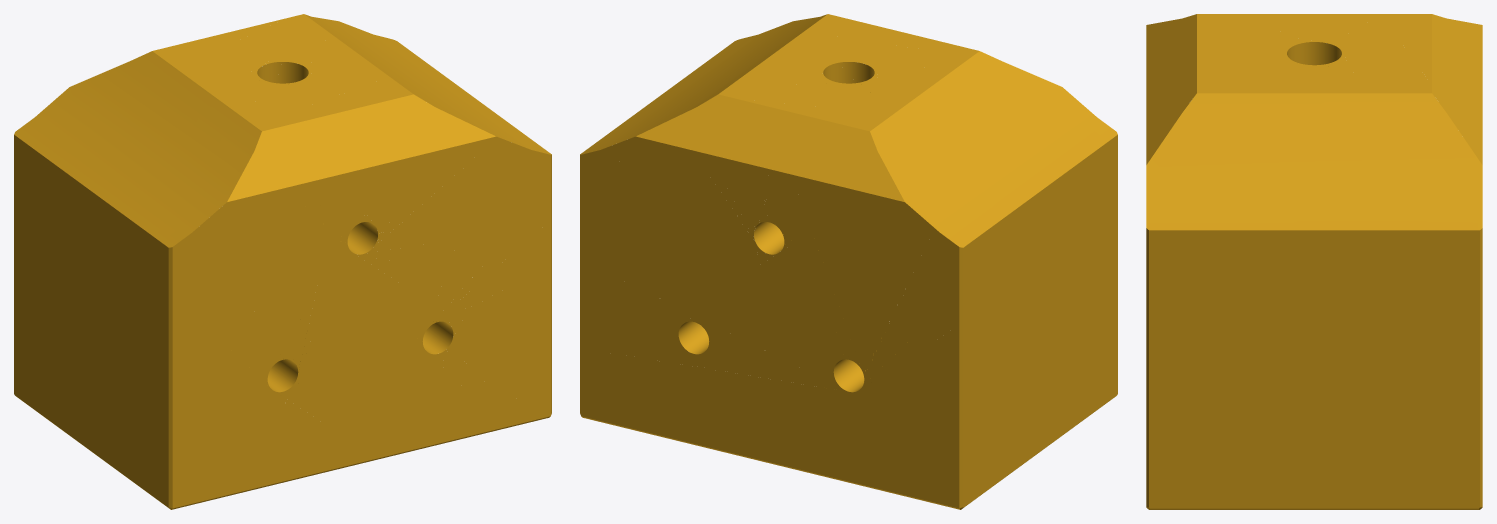
Rendered from takoz-rammer-g80-side-buffer-02.glb.
3 renders of one model, left to right at view 1: azimuth 30°, elevation 25°; view 2: azimuth 150°, elevation 25°; view 3: azimuth 270°, elevation 25°, orthographic. The views are drawn at different scales.
Visible parts, largest first — view 1: body; view 2: body; view 3: body.
Boxes of the visible parts, <box> form: body: <box>14,14,551,509</box>; body: <box>580,14,1117,509</box>; body: <box>1146,14,1482,509</box>.
Bounding box in the file's own units: 0.163 × 0.136 × 0.116.
